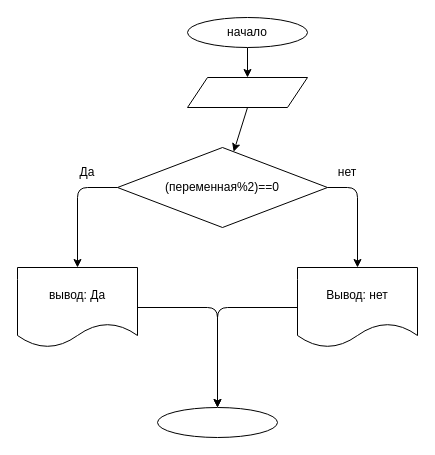
Image size: 435x455. Some labels were removed from this diagram. The centre of each missing label's shape, as x and y in pixels:
ввод переменной: (x=247, y=92)
конец: (x=217, y=422)
